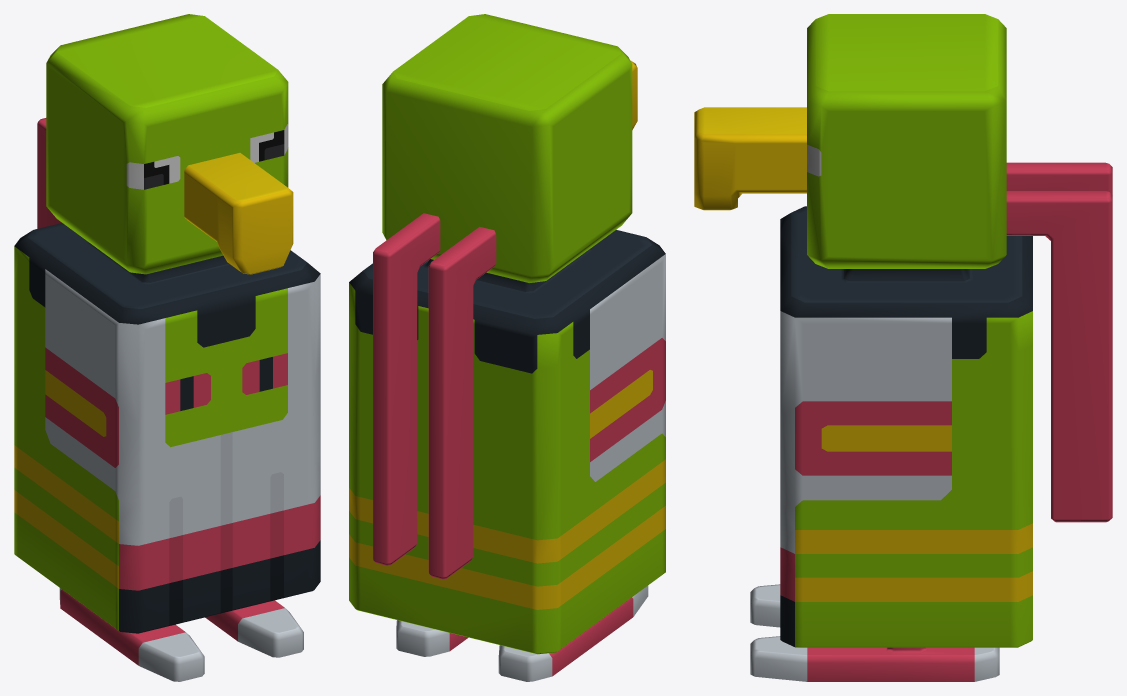
3 views of the same model, side by side, from view 1: azimuth 30°, elevation 25°; view 2: azimuth 150°, elevation 25°; view 3: azimuth 270°, elevation 25° (orthographic). The views are drawn at different scales.
Visible parts, largest first — view 1: model; view 2: model; view 3: model.
Boxes of the visible parts, <box> form: model: <box>14,14,320,681</box>; model: <box>349,14,665,681</box>; model: <box>694,14,1112,681</box>.
Bounding box in the file's own units: 1.19 × 3.11 × 2.
